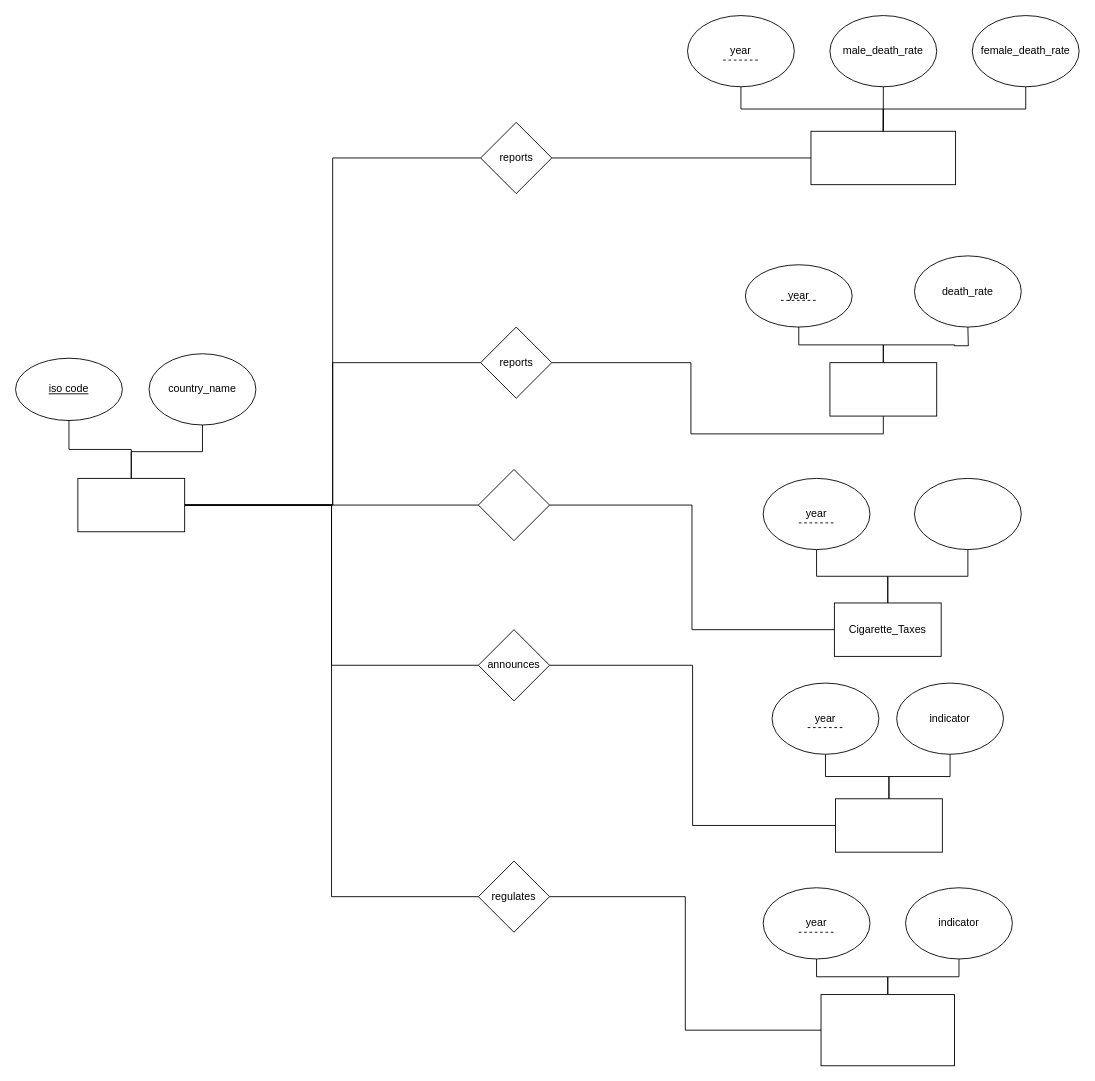
The diagram is 1095 pixels wide and 1081 high, and some of its shapes have lost their labels. The shapes that lost their labels are listed below. From the top down, each one's centre as x and y in pixels, then its label:
At point (883, 157): "lung_cancer_death_rates".
At point (883, 389): "Smoking_Deaths".
At point (131, 504): "Country".
At point (513, 505): "determines".
At point (967, 513): "tax_rate".
At point (888, 825): "Smoking_Quit_Help".
At point (887, 1030): "Cigarette_Advertisements".
